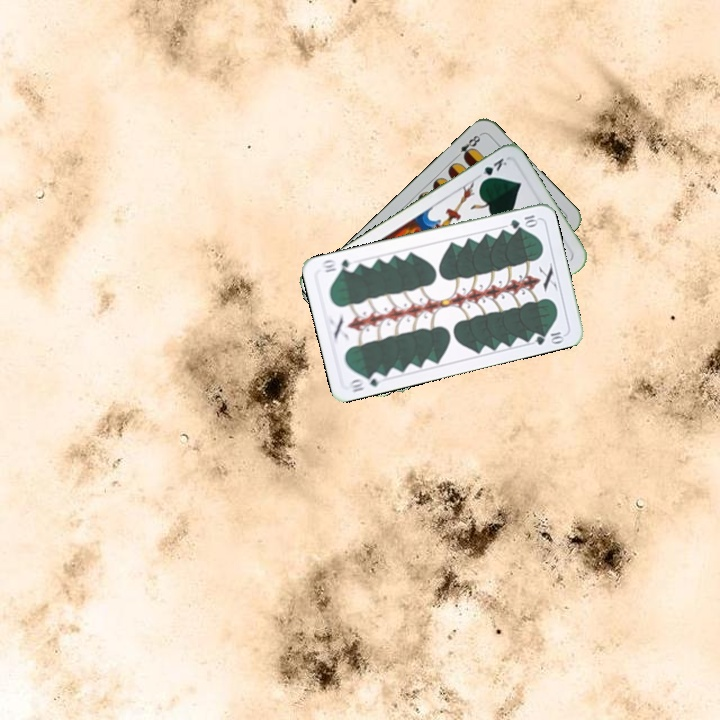E8: (451, 130, 484, 162)
G10: (346, 368, 385, 395), (506, 211, 540, 231)
GK: (472, 154, 510, 185)
